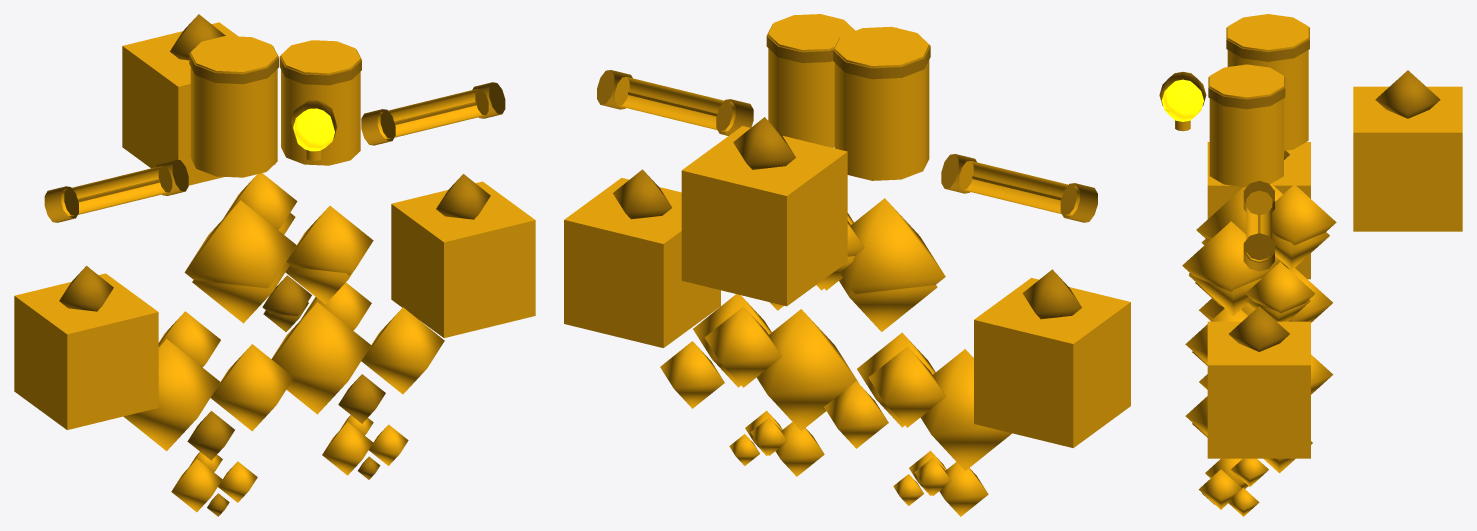
File: golem_007.glb
3 renders of one model, left to right at view 1: azimuth 30°, elevation 25°; view 2: azimuth 150°, elevation 25°; view 3: azimuth 270°, elevation 25°, orthographic. The views are drawn at different scales.
Visible parts, largest first — view 1: Body, Detail, Glow; view 2: Body, Detail; view 3: Body, Detail, Glow.
Part boxes in pixels (left/top/right/bottom): Body: left=14, top=22, right=535, bottom=512; Detail: left=44, top=14, right=505, bottom=516; Glow: left=293, top=108, right=334, bottom=151; Body: left=564, top=14, right=1130, bottom=516; Detail: left=597, top=24, right=1097, bottom=319; Body: left=1175, top=14, right=1462, bottom=516; Detail: left=1159, top=27, right=1440, bottom=504; Glow: left=1161, top=79, right=1203, bottom=121.
Bounding box in the file's own units: 1.13 × 0.9973 × 0.6497.
